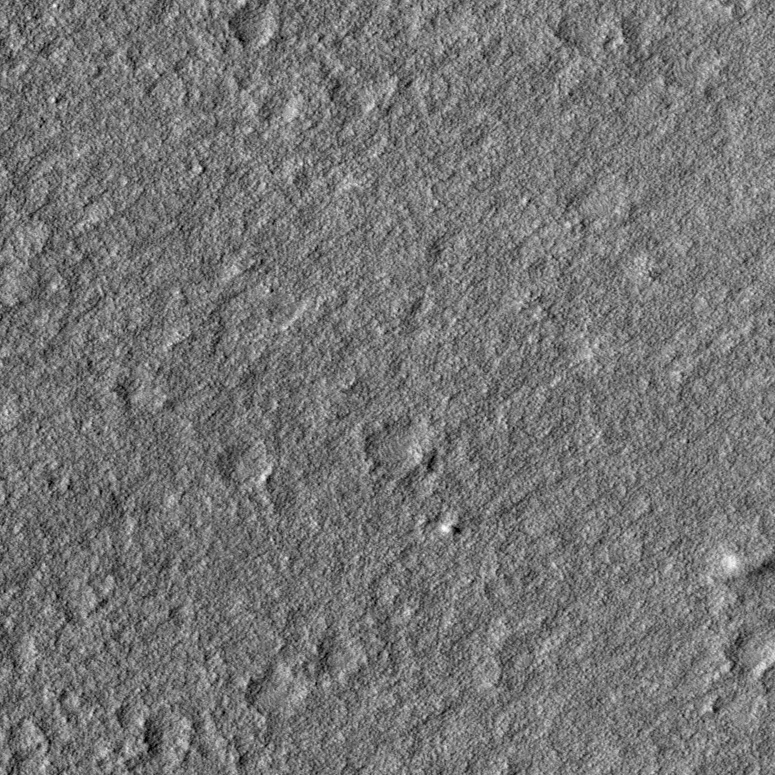dust_devil: (719, 548, 775, 580)
